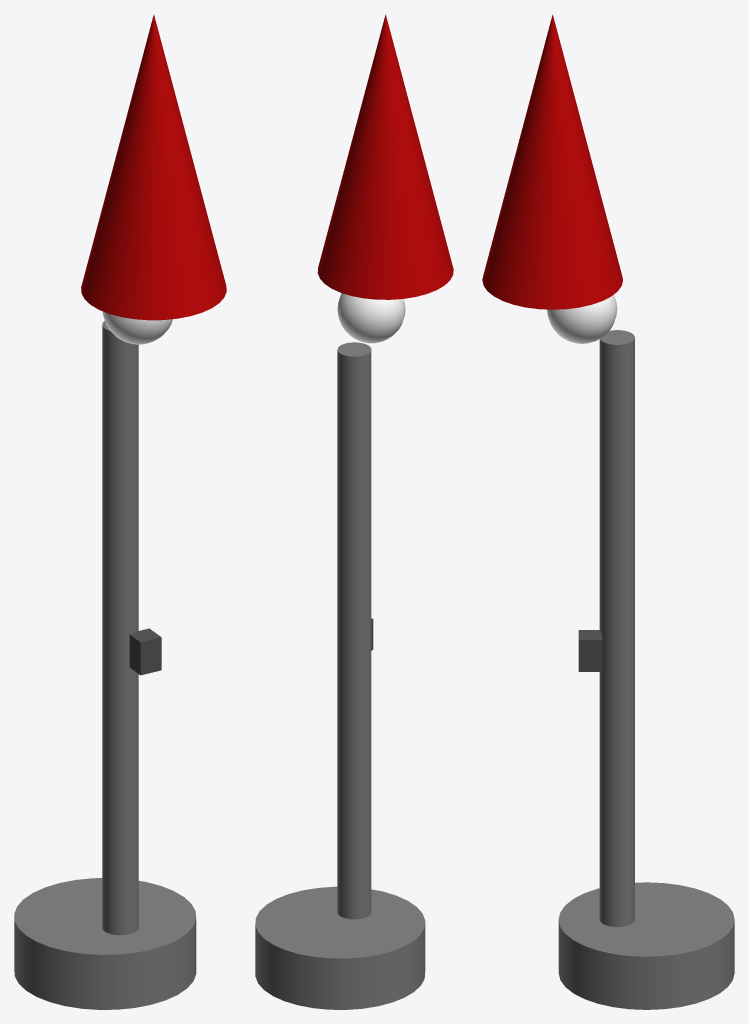
Rendered from lamp.glb.
3 views of the same model, side by side, from view 1: azimuth 30°, elevation 25°; view 2: azimuth 150°, elevation 25°; view 3: azimuth 270°, elevation 25° (orthographic). The views are drawn at different scales.
Parts seen in each view (by area): view 1: lampshade, stem, base, bulb, switch; view 2: lampshade, stem, base, bulb; view 3: lampshade, stem, base, bulb, switch.
Boxes of the visible parts, left/top/right/bottom form: lampshade: left=81, top=14, right=226, bottom=320; stem: left=102, top=321, right=138, bottom=935; base: left=14, top=878, right=196, bottom=1009; bulb: left=102, top=311, right=172, bottom=344; switch: left=129, top=628, right=161, bottom=675; lampshade: left=317, top=14, right=453, bottom=299; stem: left=337, top=342, right=371, bottom=919; base: left=255, top=886, right=425, bottom=1009; bulb: left=337, top=293, right=405, bottom=343; lampshade: left=482, top=14, right=622, bottom=309; stem: left=599, top=330, right=634, bottom=926; base: left=558, top=882, right=734, bottom=1009; bulb: left=547, top=295, right=617, bottom=343; switch: left=578, top=630, right=601, bottom=671.
Size of the model in its own units: 0.15 by 0.901 by 0.215.
